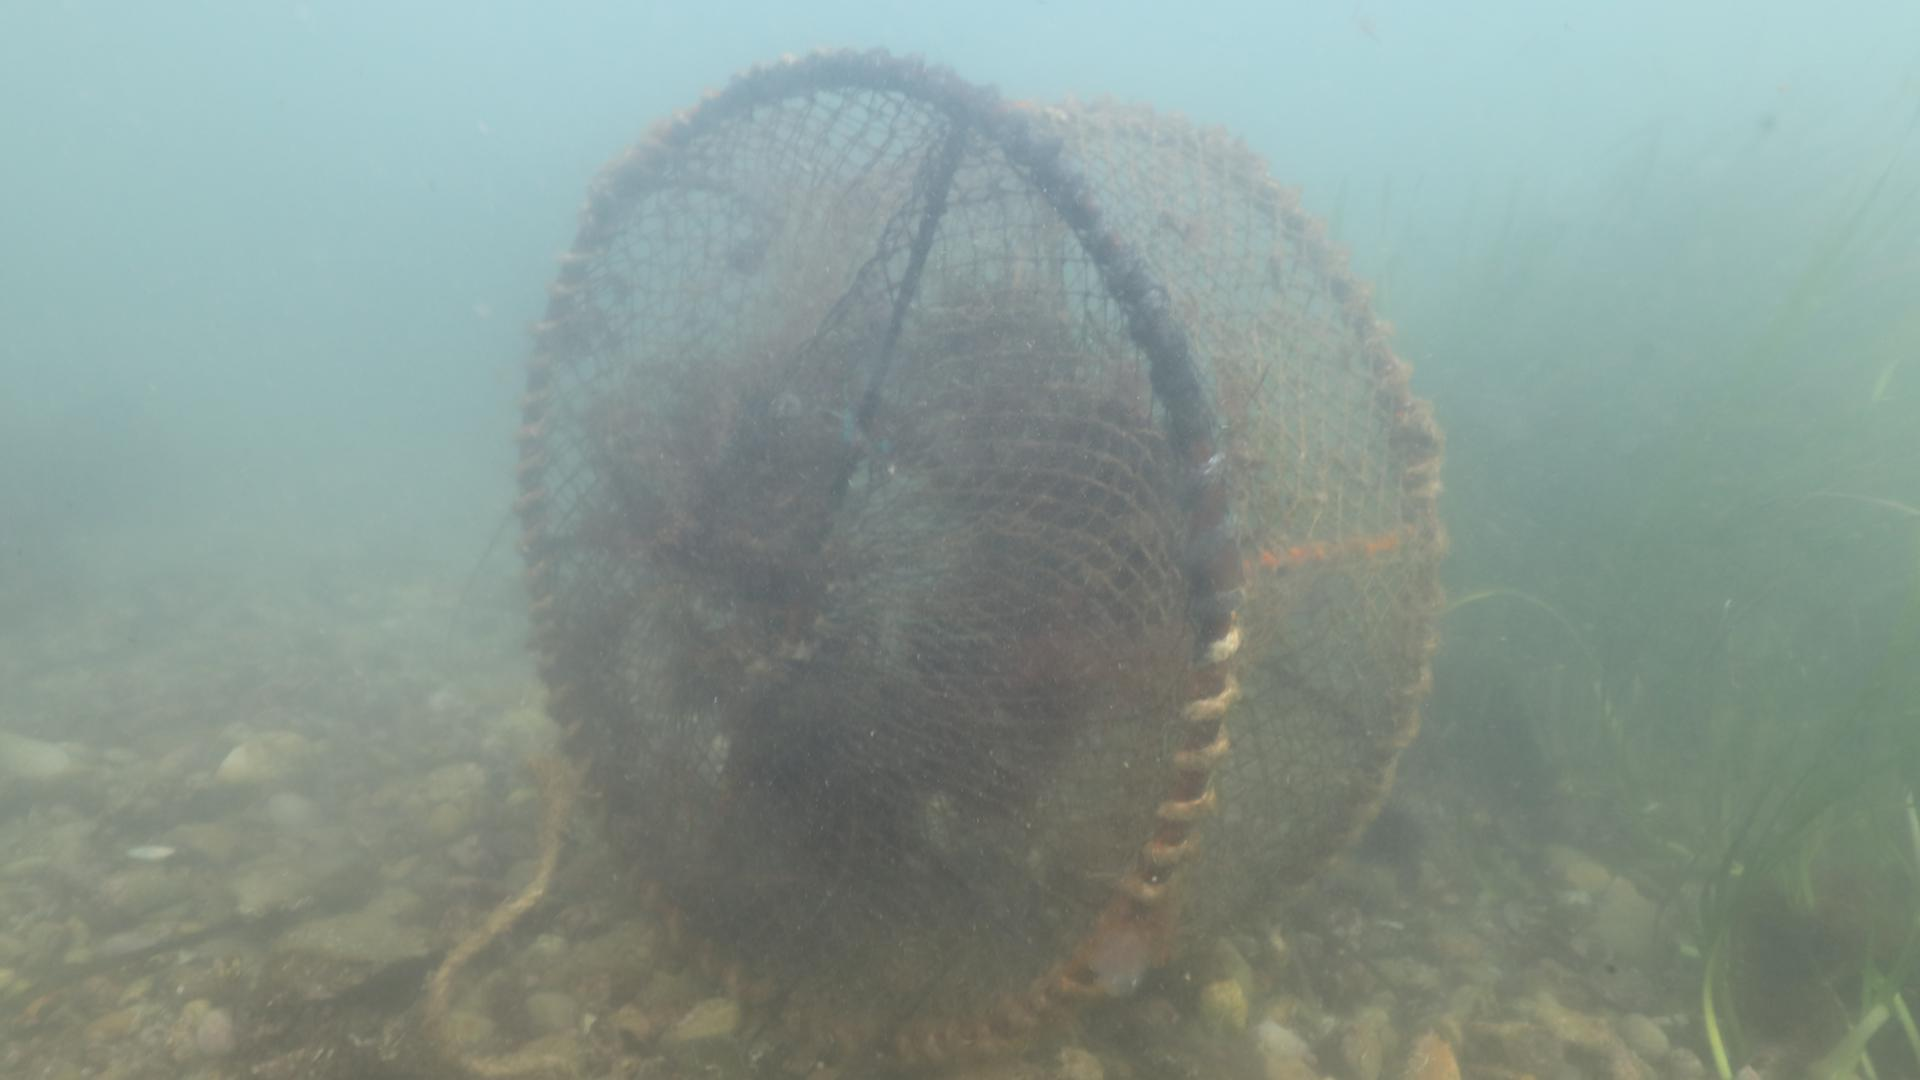circular fish trap: (513, 46, 1448, 1065)
